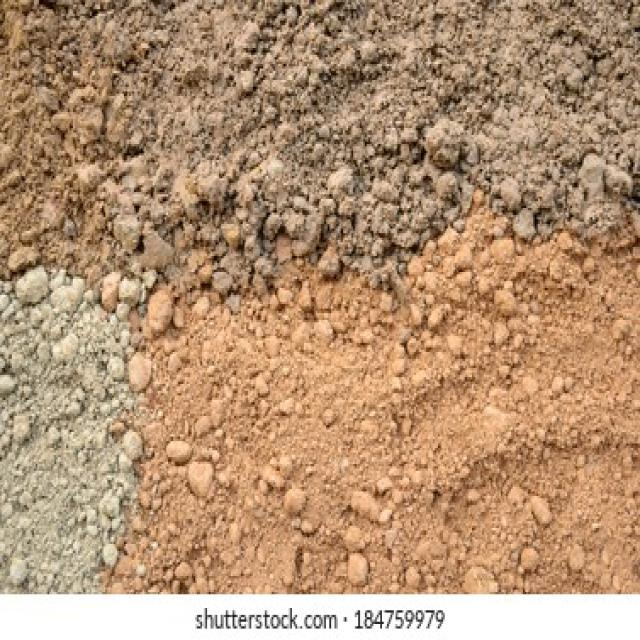Alluvial Soil: (127, 18, 629, 181)
